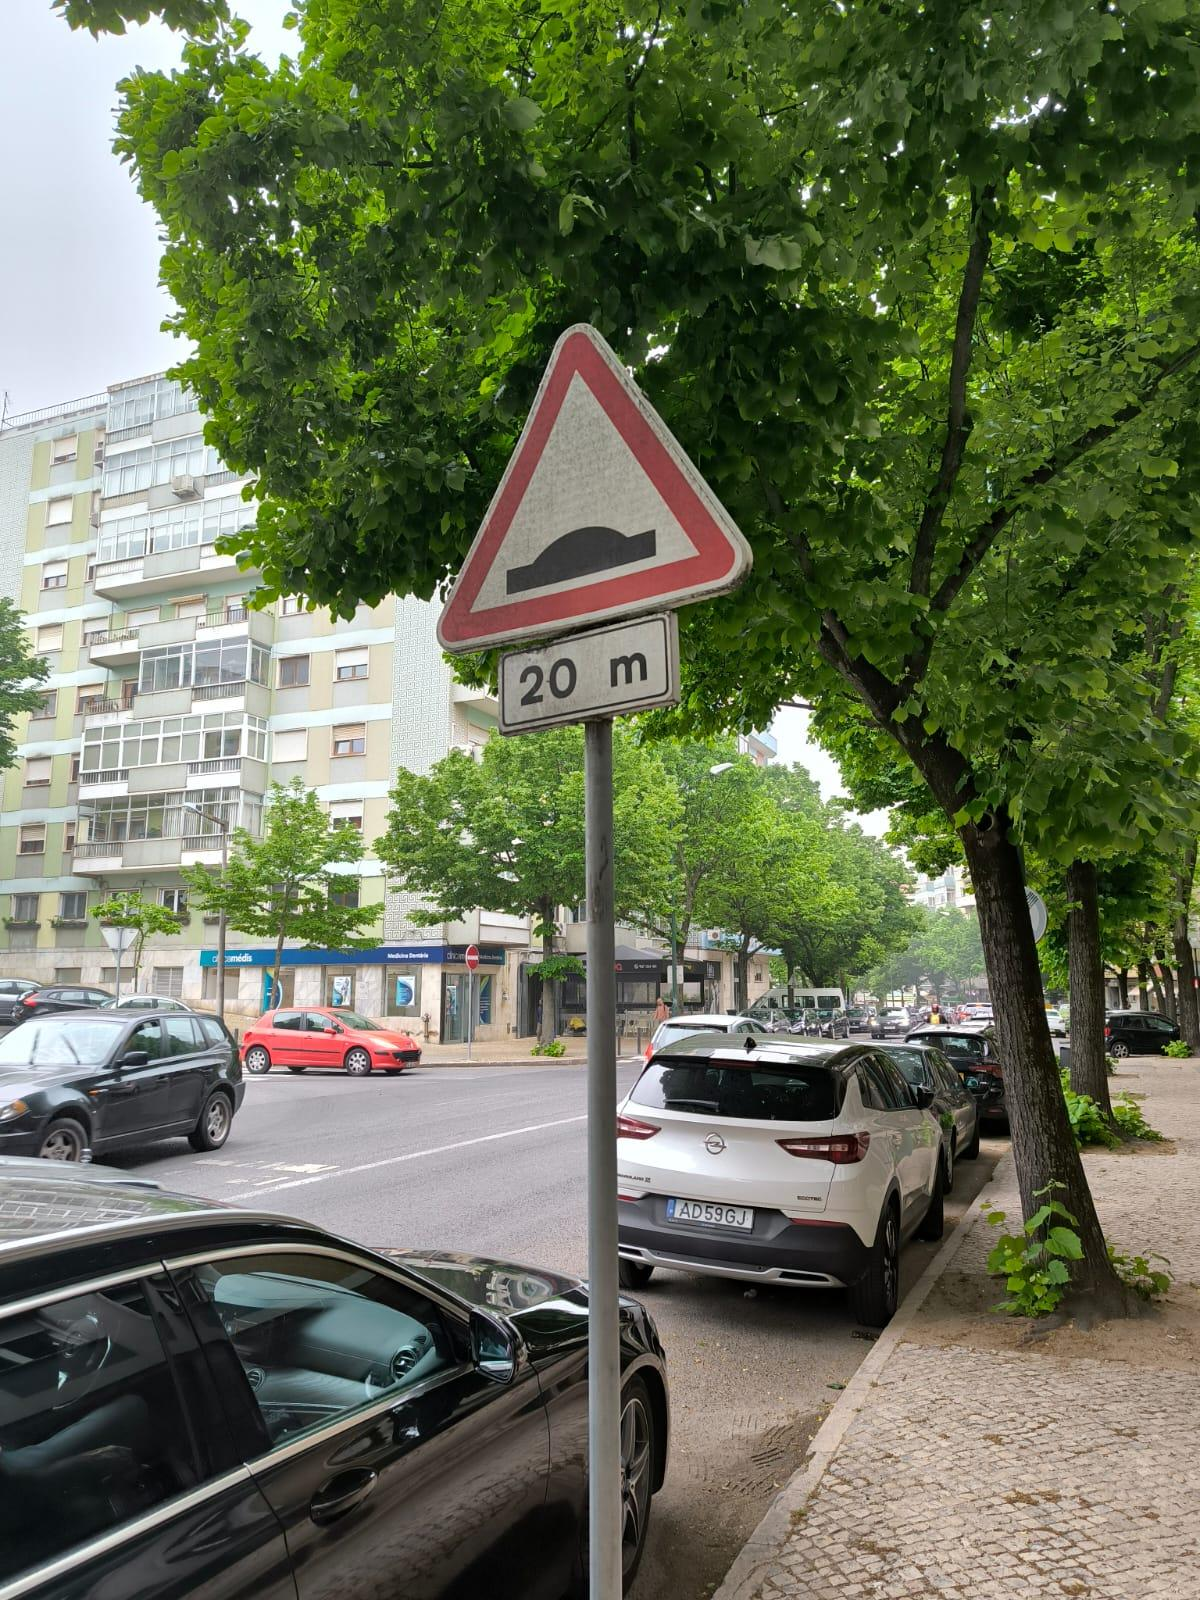lomba: (408, 355, 725, 624)
